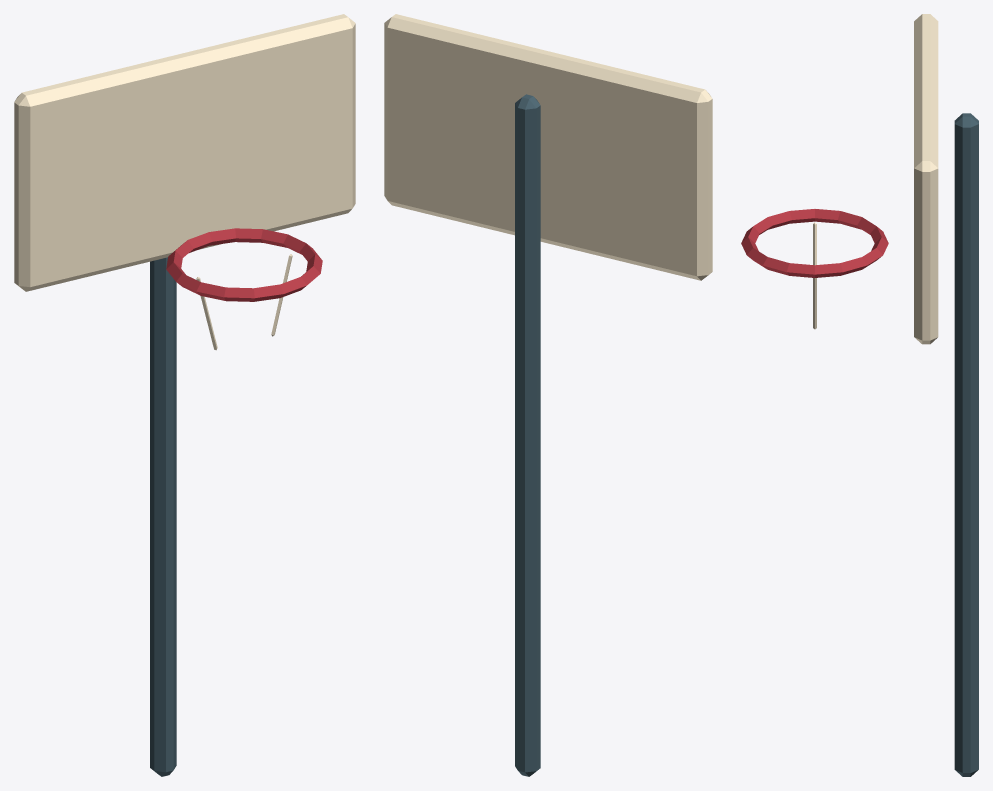
Rendered from basketball-hoop.glb.
3 views of the same model, side by side, from view 1: azimuth 30°, elevation 25°; view 2: azimuth 150°, elevation 25°; view 3: azimuth 270°, elevation 25° (orthographic). The views are drawn at different scales.
Parts seen in each view (by area): view 1: backboard, hoop-pole, basket-ring; view 2: backboard, hoop-pole; view 3: hoop-pole, backboard, basket-ring.
Part boxes in pixels (x1,y1,x2,y2): backboard: (14,14,355,291); hoop-pole: (150,257,176,776); basket-ring: (166,228,322,301); backboard: (384,14,712,280); hoop-pole: (515,94,540,776); hoop-pole: (954,113,978,776); backboard: (914,14,938,344); basket-ring: (741,209,888,277).
Bounding box in the file's own units: 1.8 × 3.75 × 1.18.
